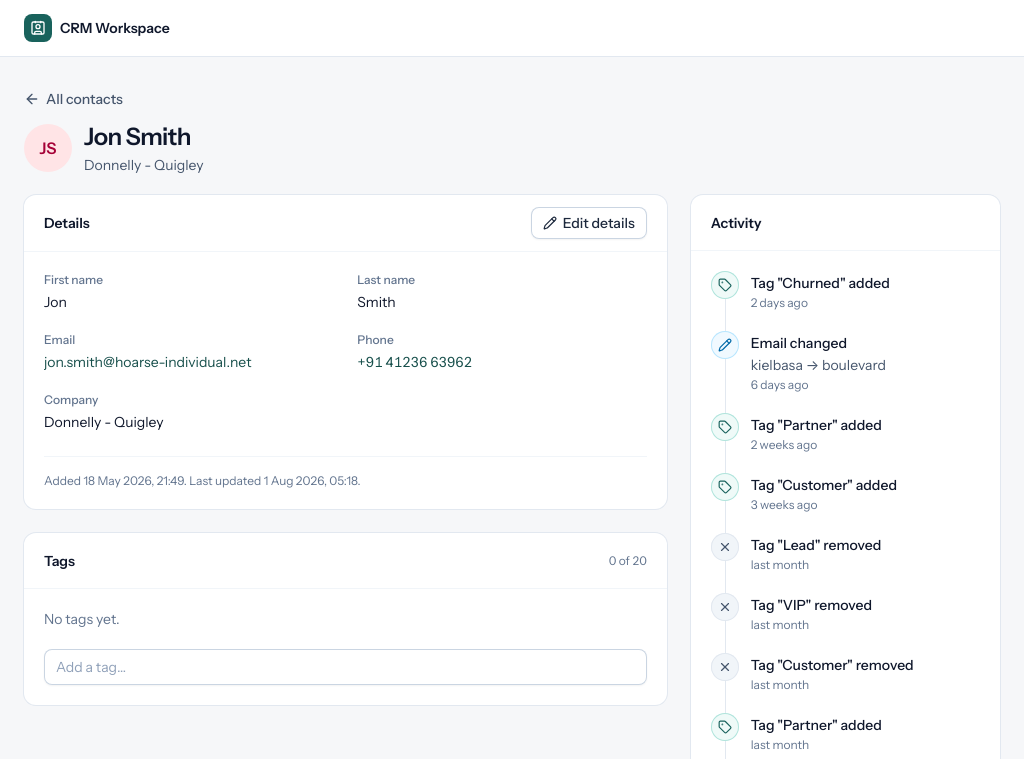
ActivityFeed › shows a new entry after a change is saved
The width and height of the screenshot is (1024, 759).
Click the button "Edit details" at (589, 223), box left=531, top=207, right=647, bottom=239
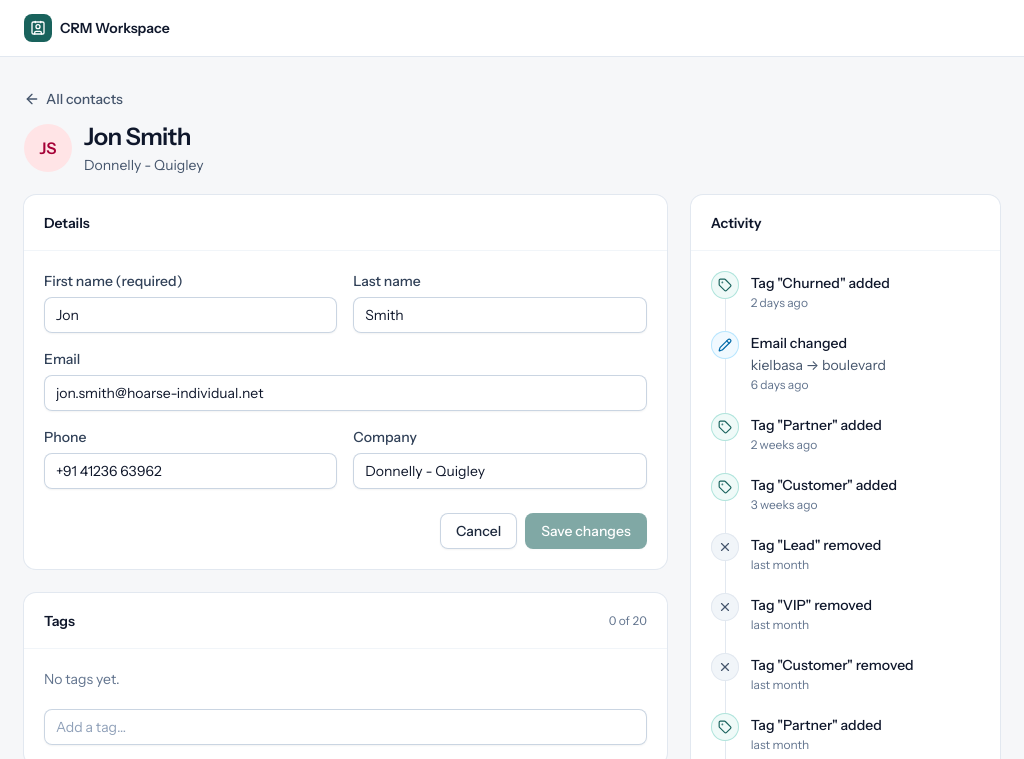
Replace the text in the field labelled "Company" with "Brand New Co" at (500, 471), box left=353, top=453, right=647, bottom=489
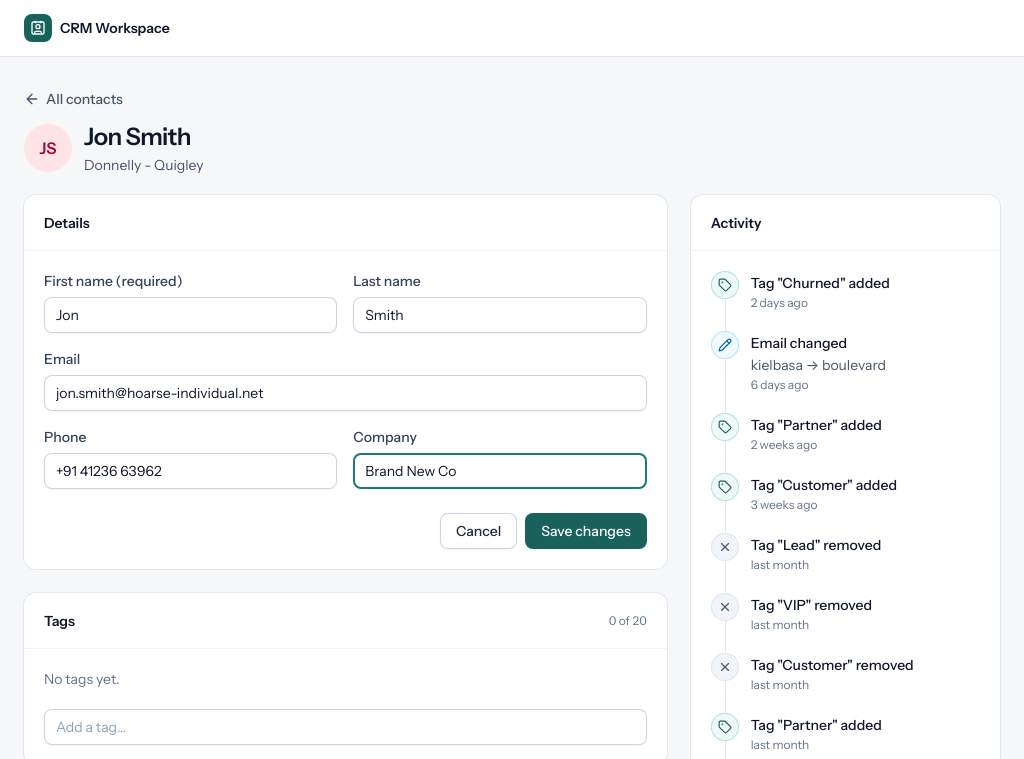
Click the button "Save changes" at (586, 531), box left=525, top=513, right=647, bottom=549
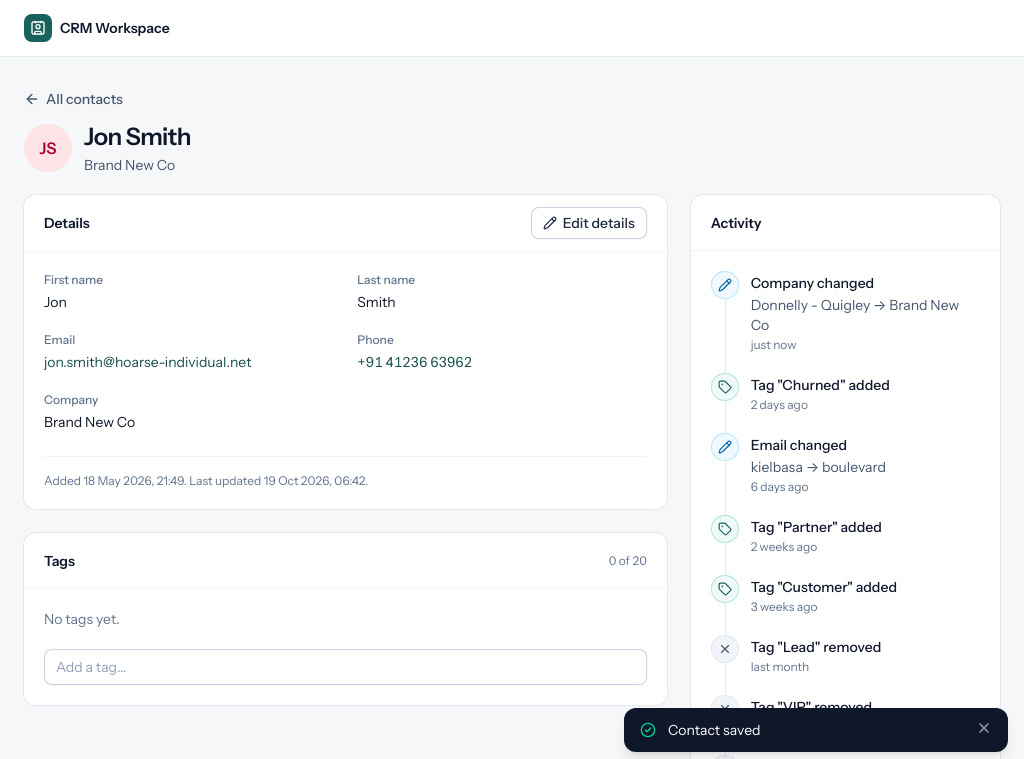
Now the list item that starts with "Company changed" is shown, box left=751, top=274, right=874, bottom=292
Now the list item that starts with "Company changed" shows "Brand New Co", box left=751, top=296, right=959, bottom=334
